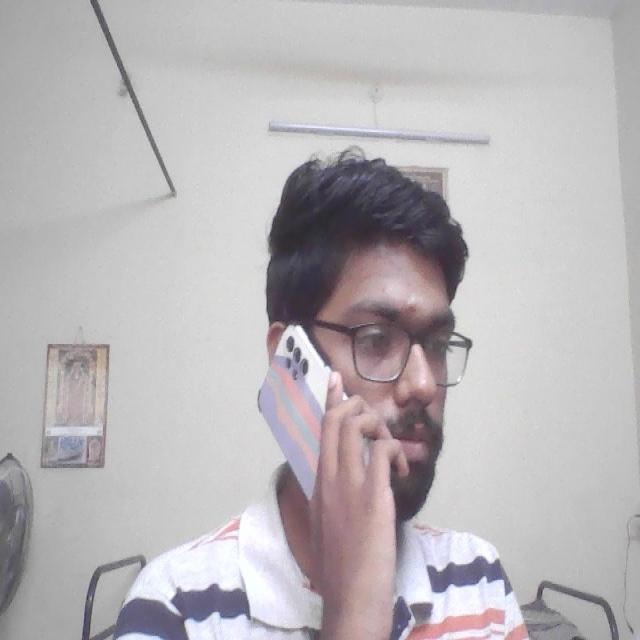Mobile: (250, 307, 343, 504)
